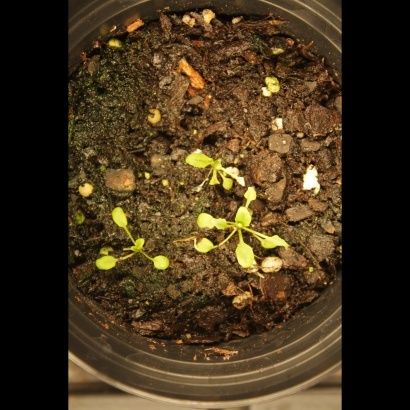leaf: (258, 227, 296, 259), (229, 241, 259, 272), (196, 210, 230, 235), (179, 148, 214, 172), (108, 205, 134, 236), (231, 204, 255, 229), (95, 252, 119, 276), (153, 251, 176, 274), (217, 171, 240, 194), (193, 235, 216, 258), (243, 183, 266, 206)
